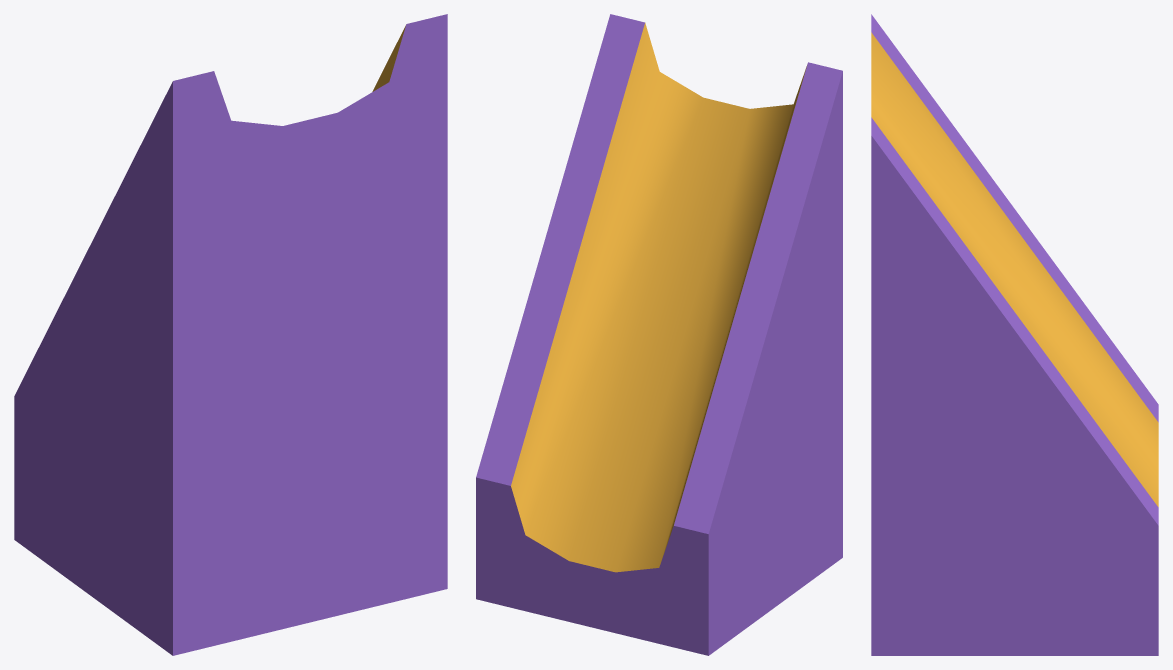
File: marble-kit--slant-solid-d.glb
3 renders of one model, left to right at view 1: azimuth 30°, elevation 25°; view 2: azimuth 150°, elevation 25°; view 3: azimuth 270°, elevation 25°, orthographic. The views are drawn at different scales.
Visible parts, largest first — view 1: slant-solid-d; view 2: slant-solid-d; view 3: slant-solid-d.
Part boxes in pixels (left/top/right/bottom): slant-solid-d: left=14, top=14, right=447, bottom=655; slant-solid-d: left=476, top=14, right=842, bottom=655; slant-solid-d: left=871, top=14, right=1158, bottom=655.
Size of the model in its own units: 1 by 2 by 1.
1 material, 1 textured.
